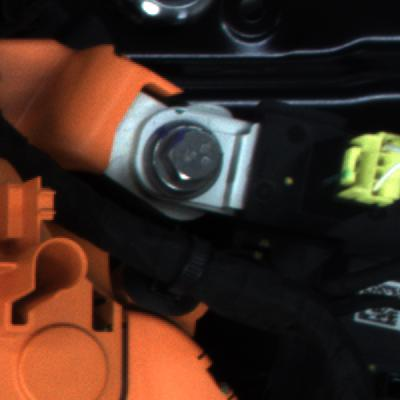nut_b: (132, 116, 232, 203)
